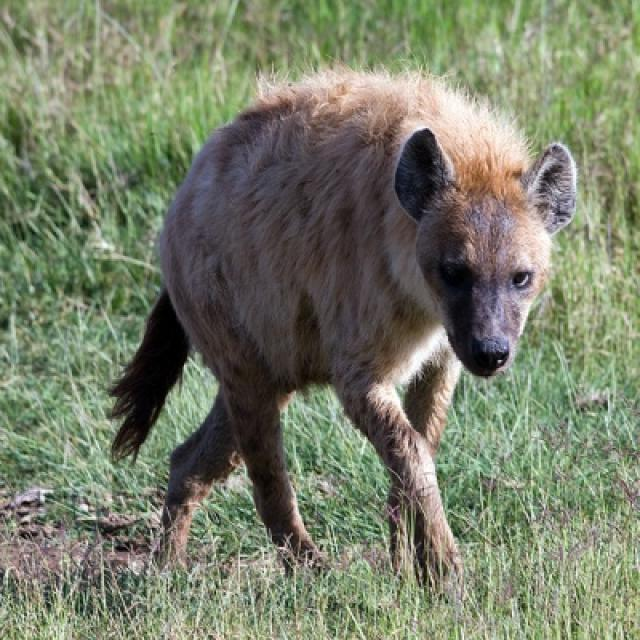hyena: (107, 69, 579, 600)
